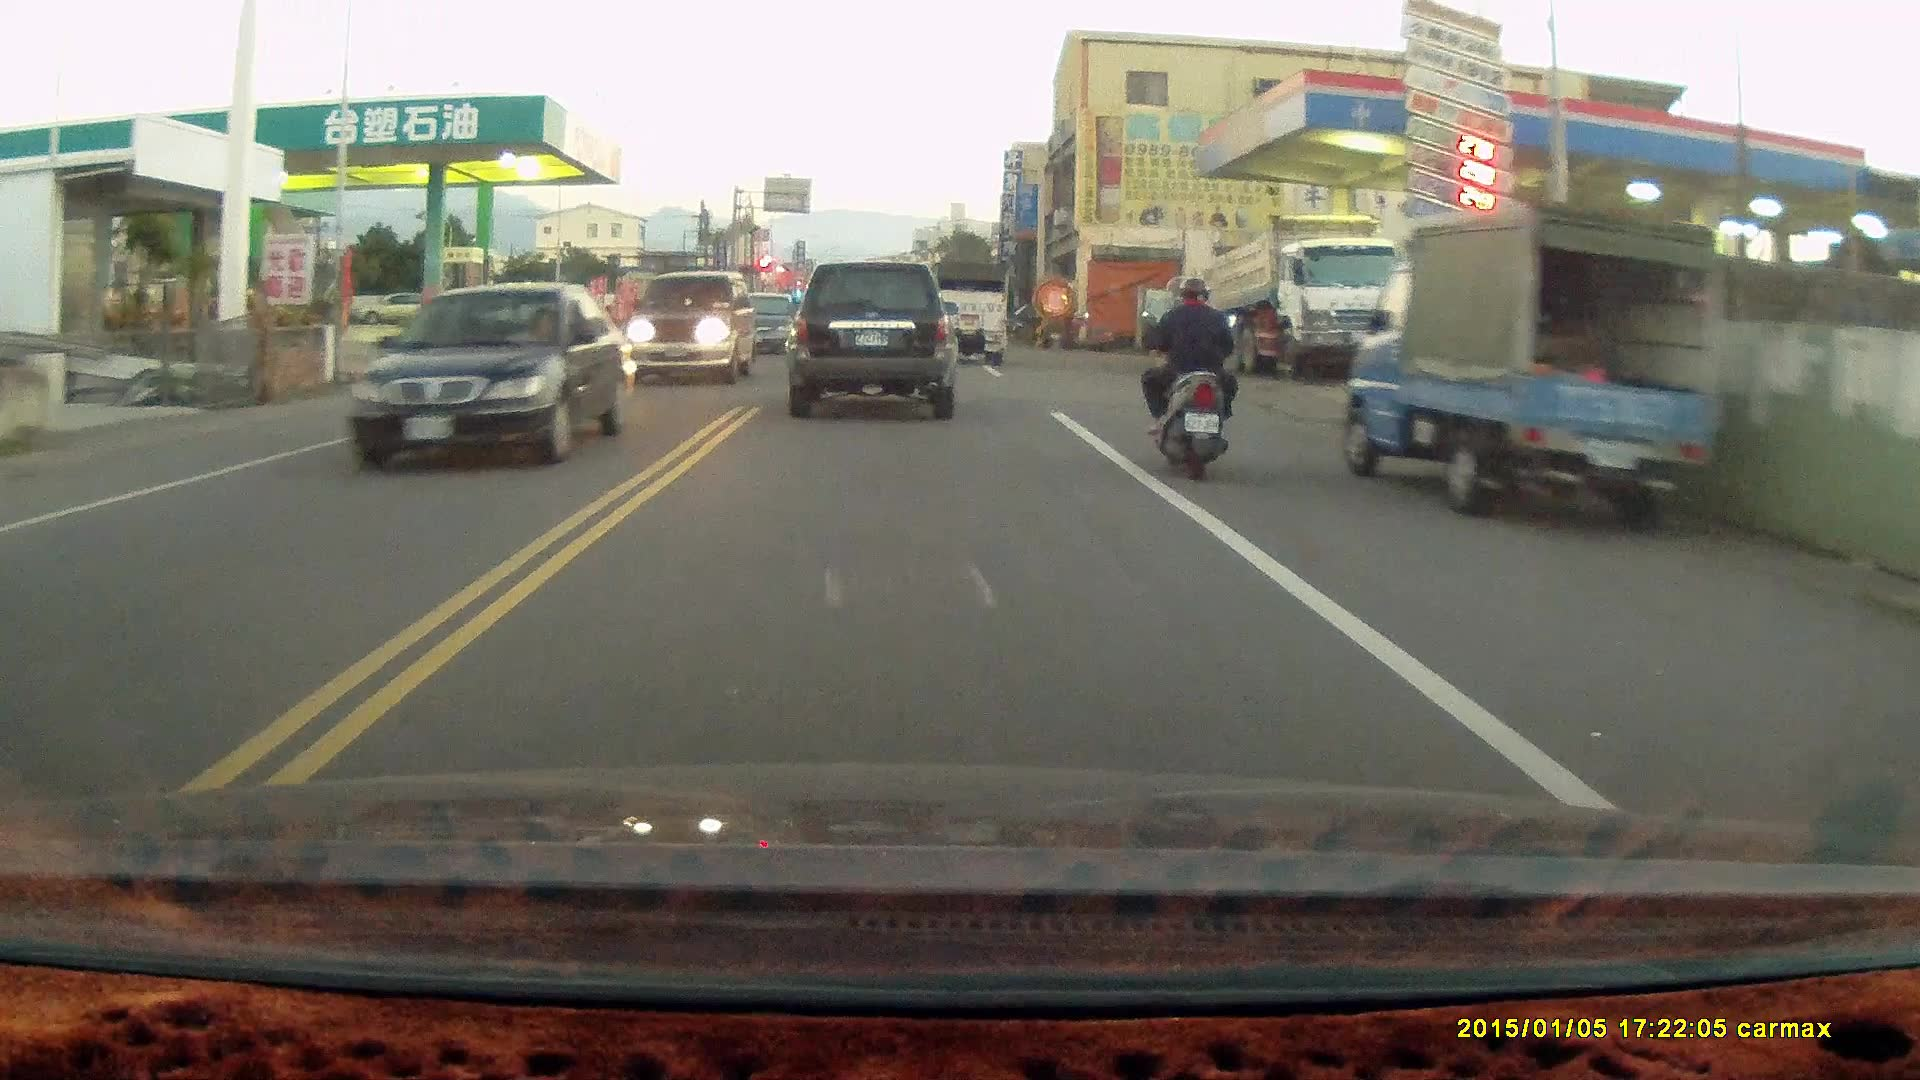rider: (1139, 277, 1241, 483)
vehicle: (1345, 204, 1726, 520), (351, 286, 635, 472), (1187, 211, 1405, 381), (788, 264, 956, 421), (632, 268, 762, 385), (918, 256, 1012, 367)
